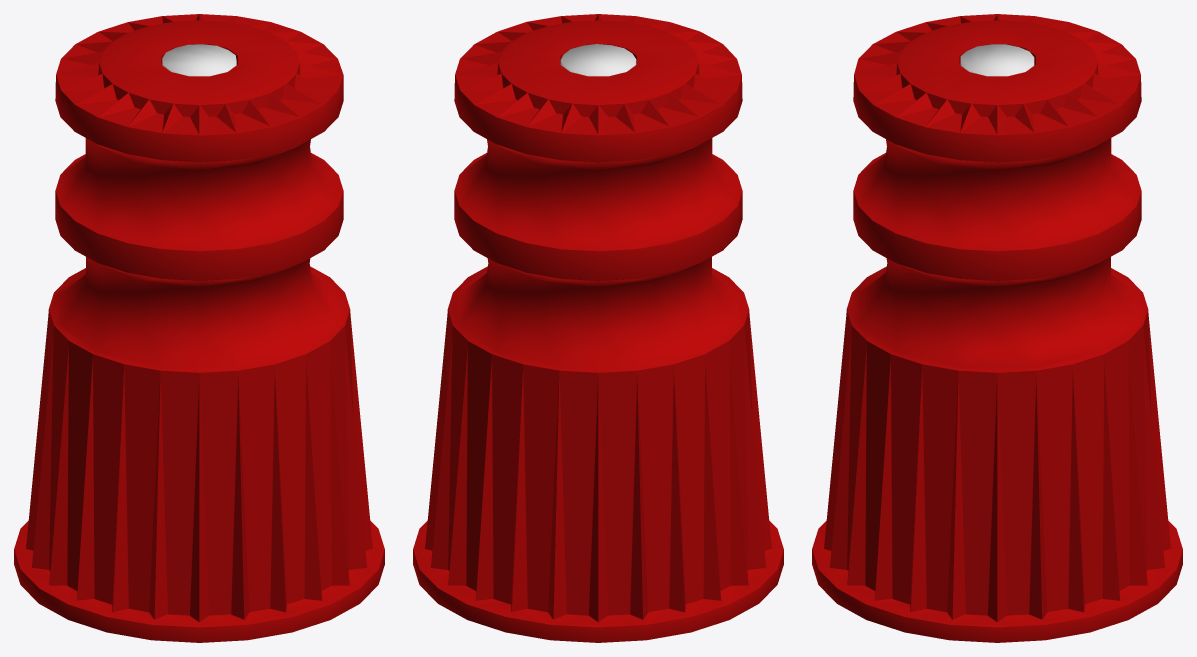
File: Model - Plastic - Star - Double - 1.0625in.fbx
3 views of the same model, side by side, from view 1: azimuth 30°, elevation 25°; view 2: azimuth 150°, elevation 25°; view 3: azimuth 270°, elevation 25° (orthographic).
Parts seen in each view (by area): view 1: Post - Plastic - Star - Double - 1 1/16"; view 2: Post - Plastic - Star - Double - 1 1/16"; view 3: Post - Plastic - Star - Double - 1 1/16".
Boxes of the visible parts, x1,y1,x2,y2 form: Post - Plastic - Star - Double - 1 1/16": (14, 14, 384, 642); Post - Plastic - Star - Double - 1 1/16": (413, 14, 783, 642); Post - Plastic - Star - Double - 1 1/16": (812, 14, 1182, 642).
Size of the model in its own units: 1.8 by 2.7 by 1.8.
